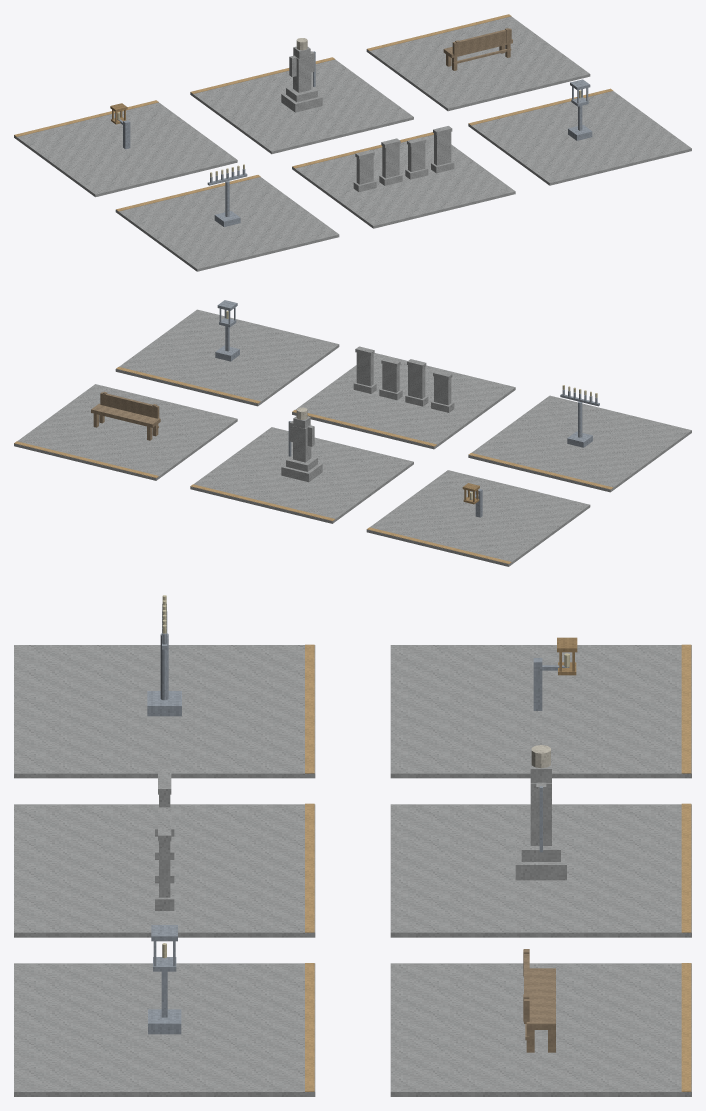
File: level_blockout_kit_church_p04.glb
3 renders of one model, top to bottom at view 1: azimuth 30°, elevation 25°; view 2: azimuth 150°, elevation 25°; view 3: azimuth 270°, elevation 25°, orthographic. The views are drawn at different scales.
Visible parts, largest first — view 1: level_blockout_kit_church_p04; view 2: level_blockout_kit_church_p04; view 3: level_blockout_kit_church_p04.
Part boxes in pixels (x1,y1,x2,y2): level_blockout_kit_church_p04: [14, 14, 691, 271]; level_blockout_kit_church_p04: [14, 300, 691, 566]; level_blockout_kit_church_p04: [14, 595, 691, 1096].
Bounding box in the file's own units: 19.65 × 2.54 × 12.6.
Materials: 7 (7 with a texture image).
